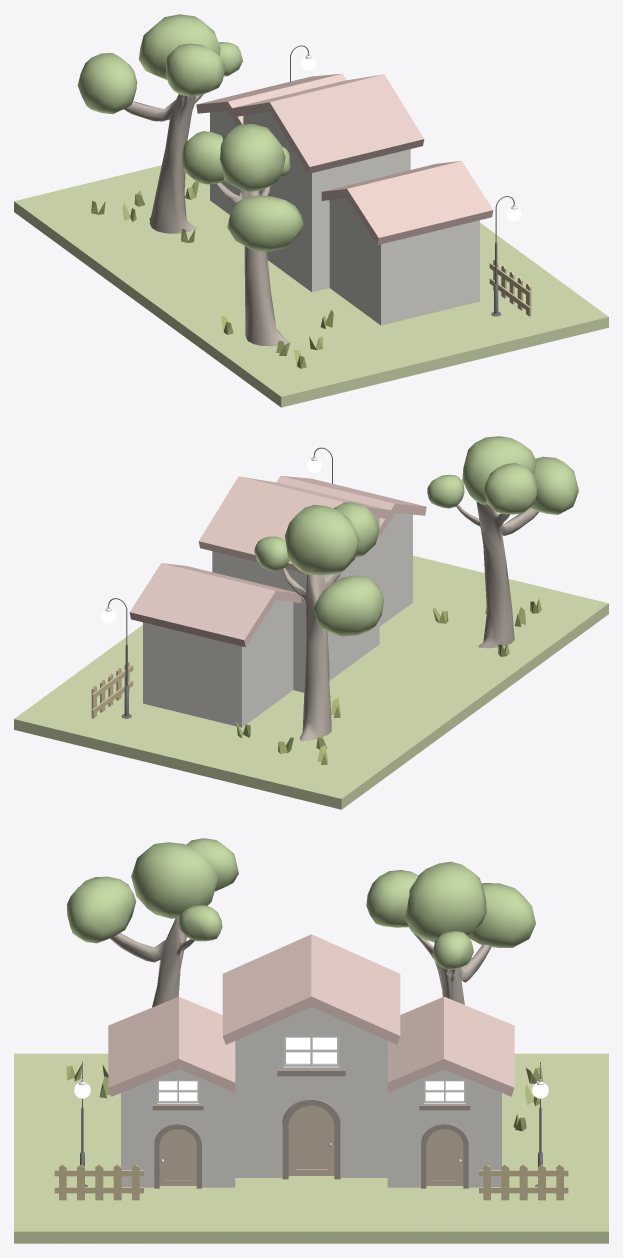
File: house.glb
3 renders of one model, top to bottom at view 1: azimuth 30°, elevation 25°; view 2: azimuth 150°, elevation 25°; view 3: azimuth 270°, elevation 25°, orthographic. The views are drawn at different scales.
Parts seen in each view (by area): view 1: mainWindow, house, tree, ground; view 2: mainWindow, house, tree, ground; view 3: mainWindow, house, tree, outdoorLight, ground.
Boxes of the visible parts, left/top/right/bottom form: mainWindow: left=14, top=45, right=608, bottom=407; house: left=210, top=111, right=479, bottom=325; tree: left=77, top=14, right=303, bottom=251; ground: left=91, top=182, right=333, bottom=368; mainWindow: left=14, top=447, right=608, bottom=809; house: left=143, top=513, right=412, bottom=727; tree: left=254, top=436, right=578, bottom=636; ground: left=236, top=598, right=541, bottom=764; mainWindow: left=14, top=918, right=608, bottom=1243; house: left=121, top=1007, right=501, bottom=1187; tree: left=67, top=838, right=535, bottom=970; outdoorLight: left=74, top=1079, right=548, bottom=1162; ground: left=66, top=1064, right=543, bottom=1131.
Size of the model in its own units: 8.58 by 5.4 by 11.71.
Materials: 9 (9 with a texture image).
